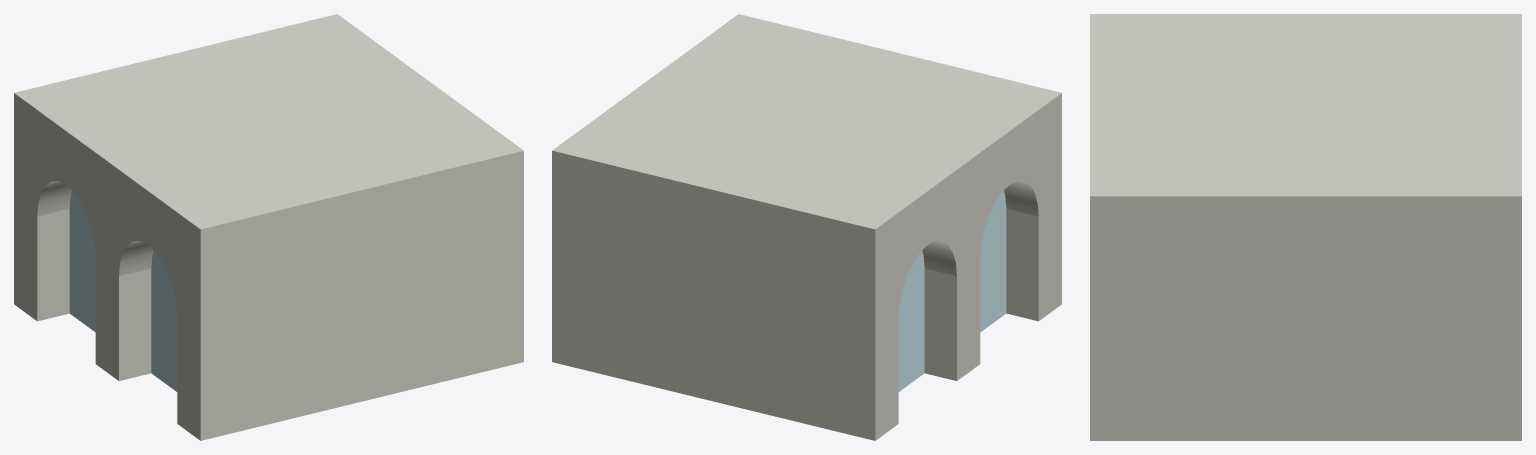
Rendered from building_021.glb.
The picture shows the model from 3 angles, left to right: view 1: azimuth 30°, elevation 25°; view 2: azimuth 150°, elevation 25°; view 3: azimuth 270°, elevation 25°; orthographic projection. The views are drawn at different scales.
Parts seen in each view (by area): view 1: building_021; view 2: building_021; view 3: building_021.
Boxes of the visible parts, <box> form: building_021: <box>14,14,523,440</box>; building_021: <box>552,14,1061,440</box>; building_021: <box>1090,14,1521,440</box>.
Size of the model in its own units: 1 by 0.625 by 1.
